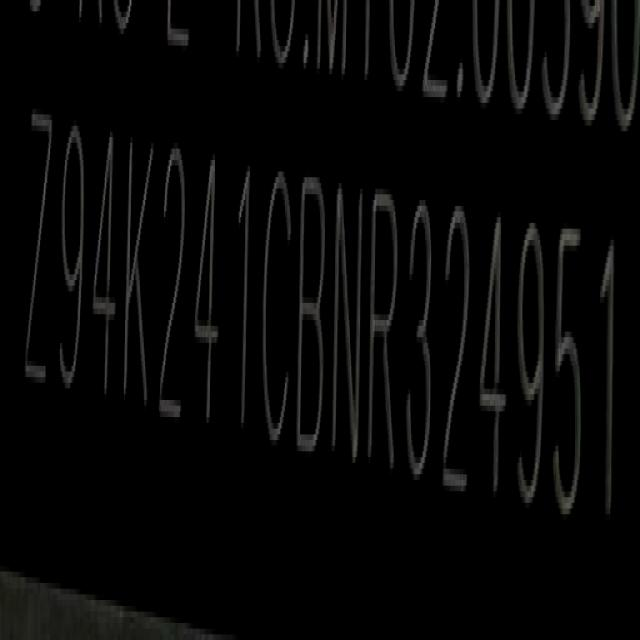1: (600, 226, 618, 535), (235, 152, 252, 444)
2: (444, 205, 476, 503), (159, 143, 190, 428)
3: (407, 198, 436, 489)
4: (194, 143, 224, 436), (479, 204, 508, 506), (93, 121, 119, 408)
5: (552, 218, 584, 531)
9: (516, 221, 548, 519), (58, 117, 88, 403)
B: (299, 172, 330, 460)
C: (260, 168, 294, 453)
K: (124, 127, 156, 421)
N: (333, 176, 366, 464)
R: (368, 187, 401, 474)
Z: (23, 104, 53, 398)
